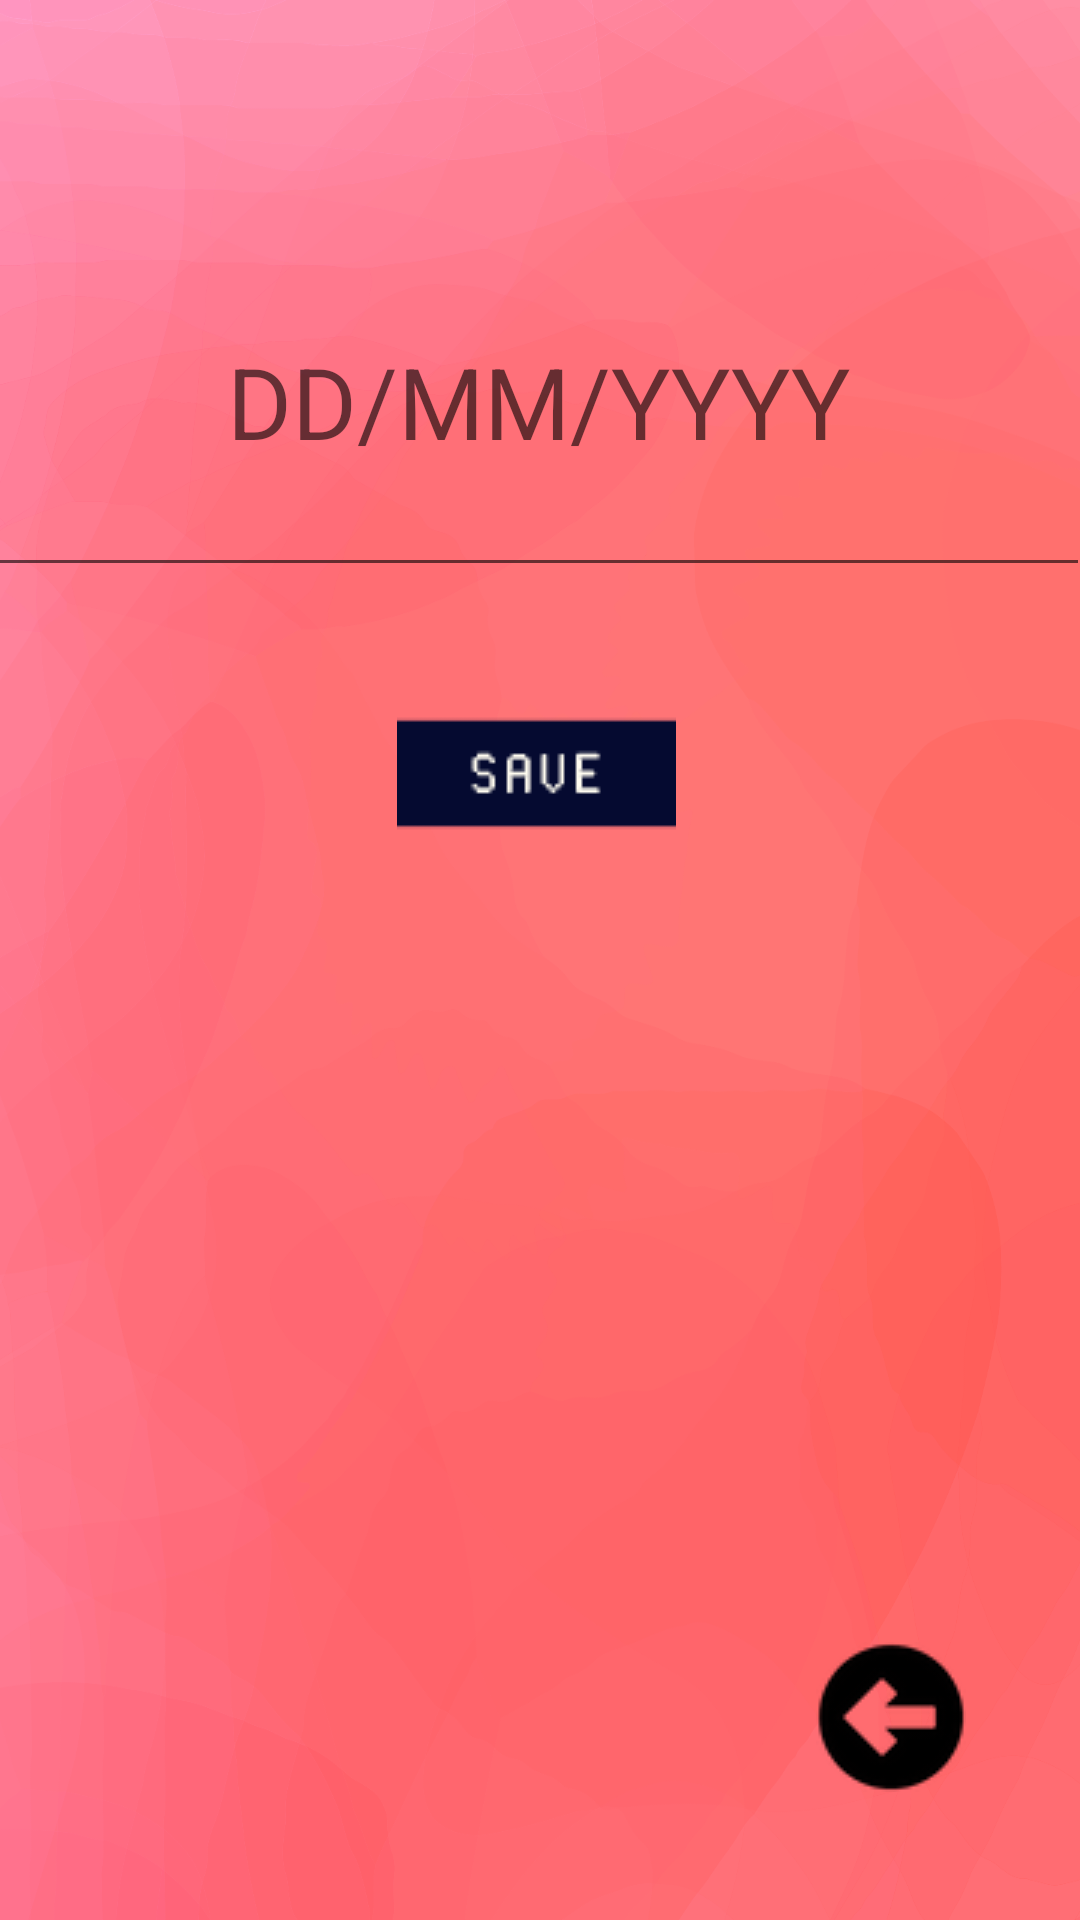

Icons on this 1080px x 1920px Android screen, each with its box as region(x1, y1, x2, y2):
back main: region(818, 1644, 964, 1790)
